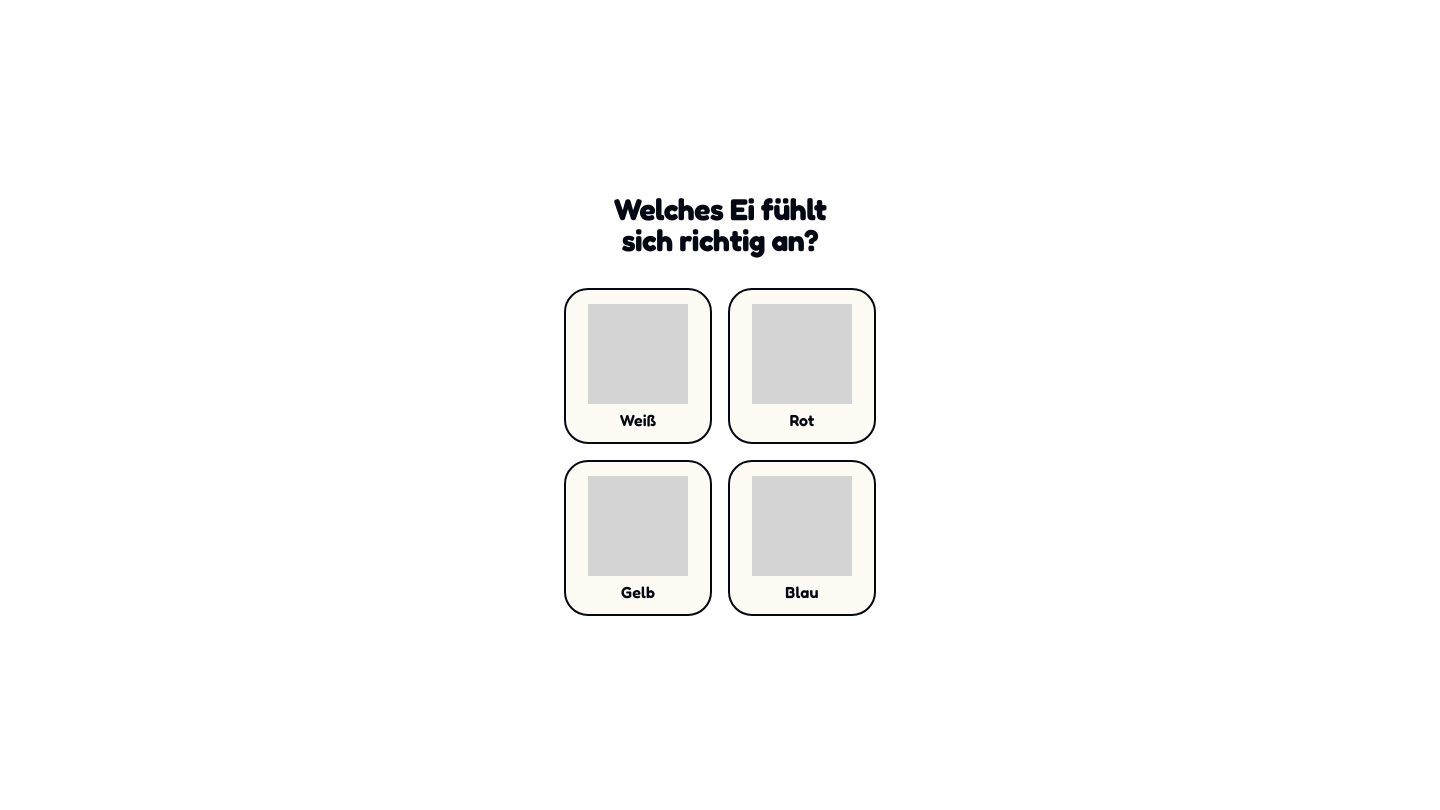
Test: MeetRonki close › without needsParent and without a child name it still asks for a parent
What coordinates should you click on to do the following:
click the button with aria-label "Ei wählen: Gelb"
I would click on:
 (638, 538)
Its box is [564,460,712,616].
Wait 7300 ms
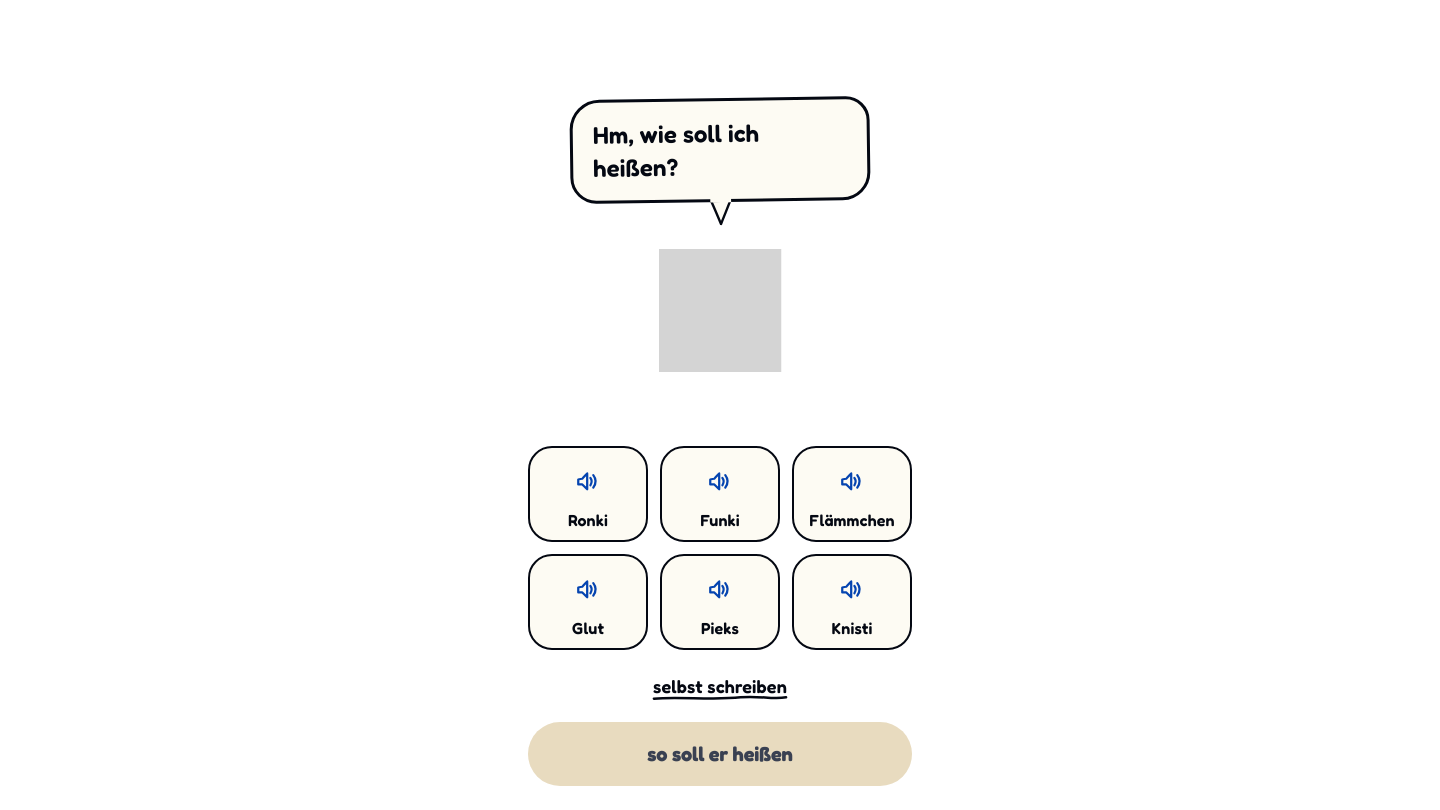
What coordinates should you click on to do the following:
click the button with aria-label "Knisti: anhören und wählen"
I would click on:
 (852, 602)
Its box is [792,554,912,650].
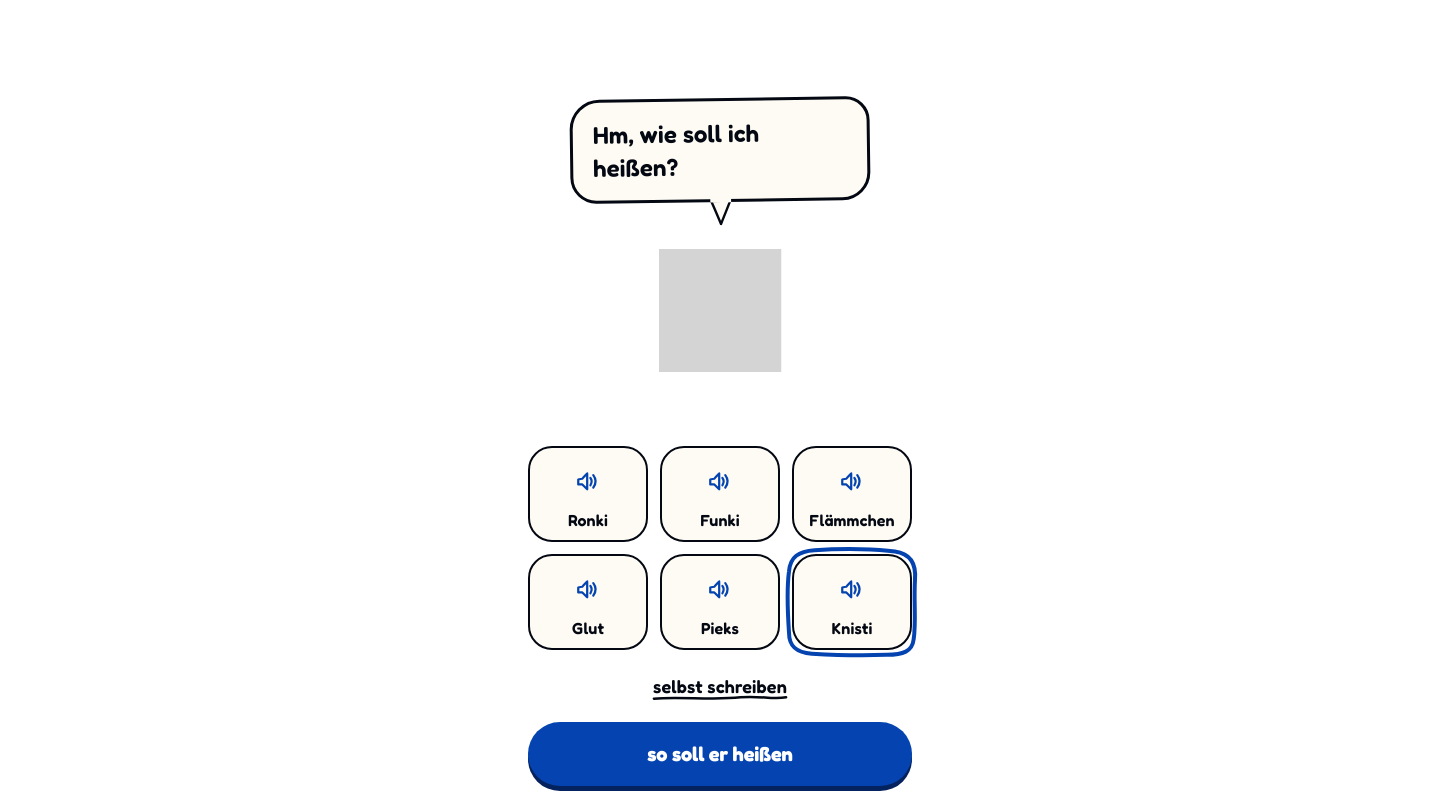
What coordinates should you click on to do the following:
click the button "so soll er heißen"
I would click on:
 (720, 754)
Its box is [528,722,912,786].
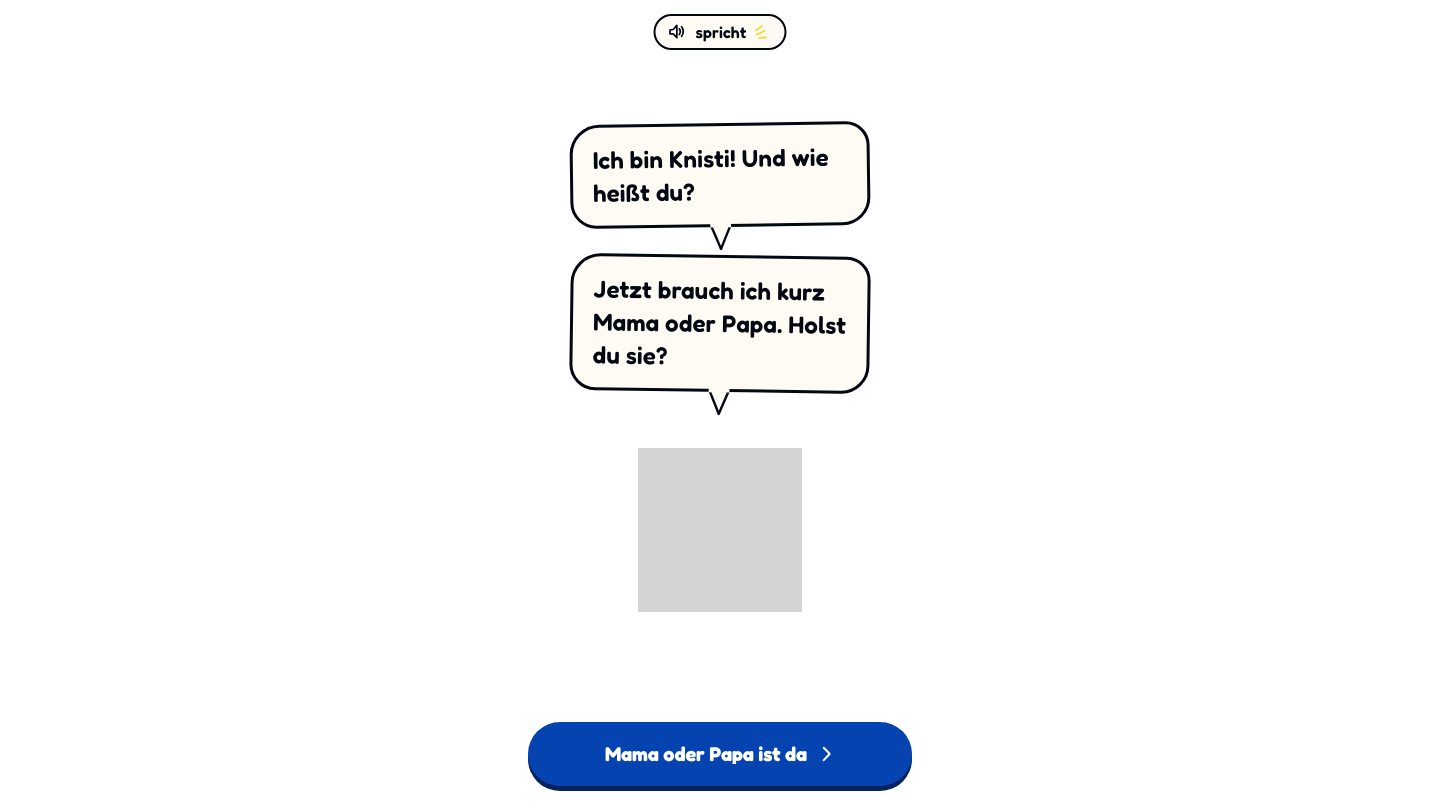
Now the text "Mama oder Papa ist da" is shown, box [605,744,807,764]
